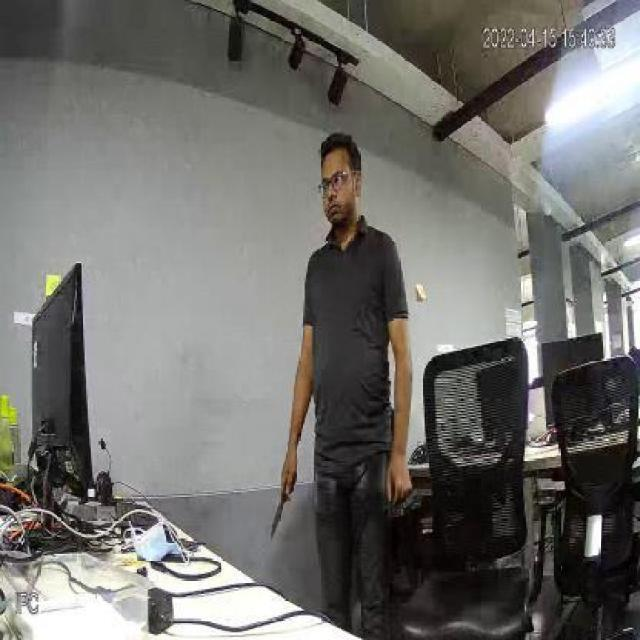-: (271, 489, 292, 549)
